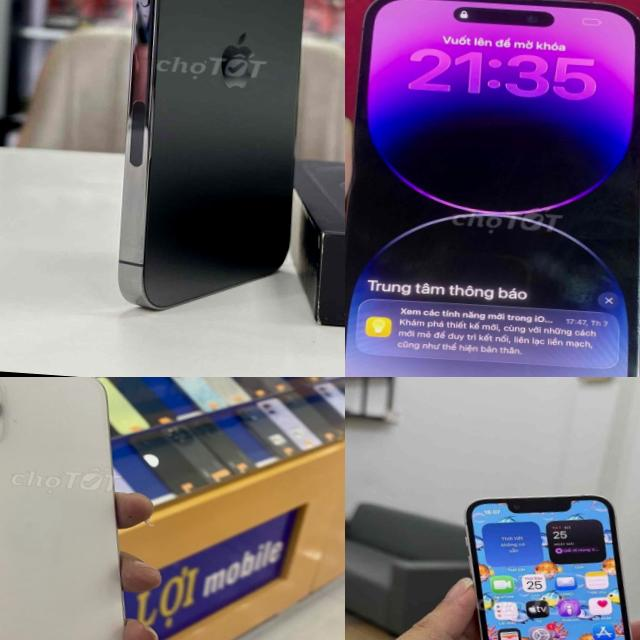gen_11: (0, 377, 123, 640)
gen_12_13: (79, 0, 325, 321), (445, 478, 640, 640)
gen_14: (345, 0, 640, 377)
